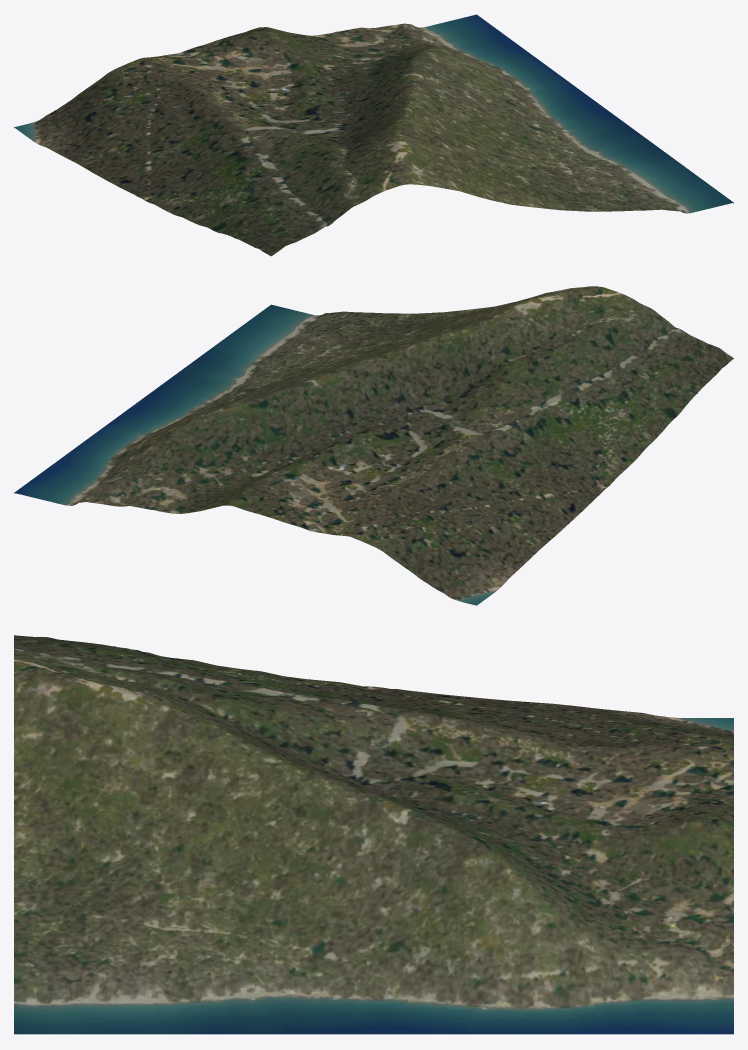
3 renders of one model, top to bottom at view 1: azimuth 30°, elevation 25°; view 2: azimuth 150°, elevation 25°; view 3: azimuth 270°, elevation 25°, orthographic. The views are drawn at different scales.
Bounding box in the file's own units: 500 × 106 × 481.
Materials: 1 (1 with a texture image).
